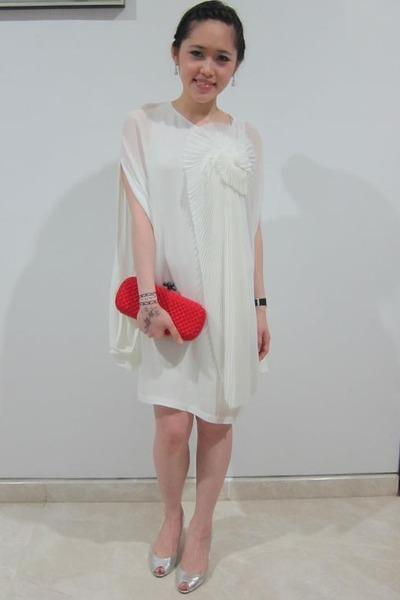bag: (115, 277, 203, 340)
dress: (99, 96, 271, 433)
shoe: (141, 549, 203, 597)
